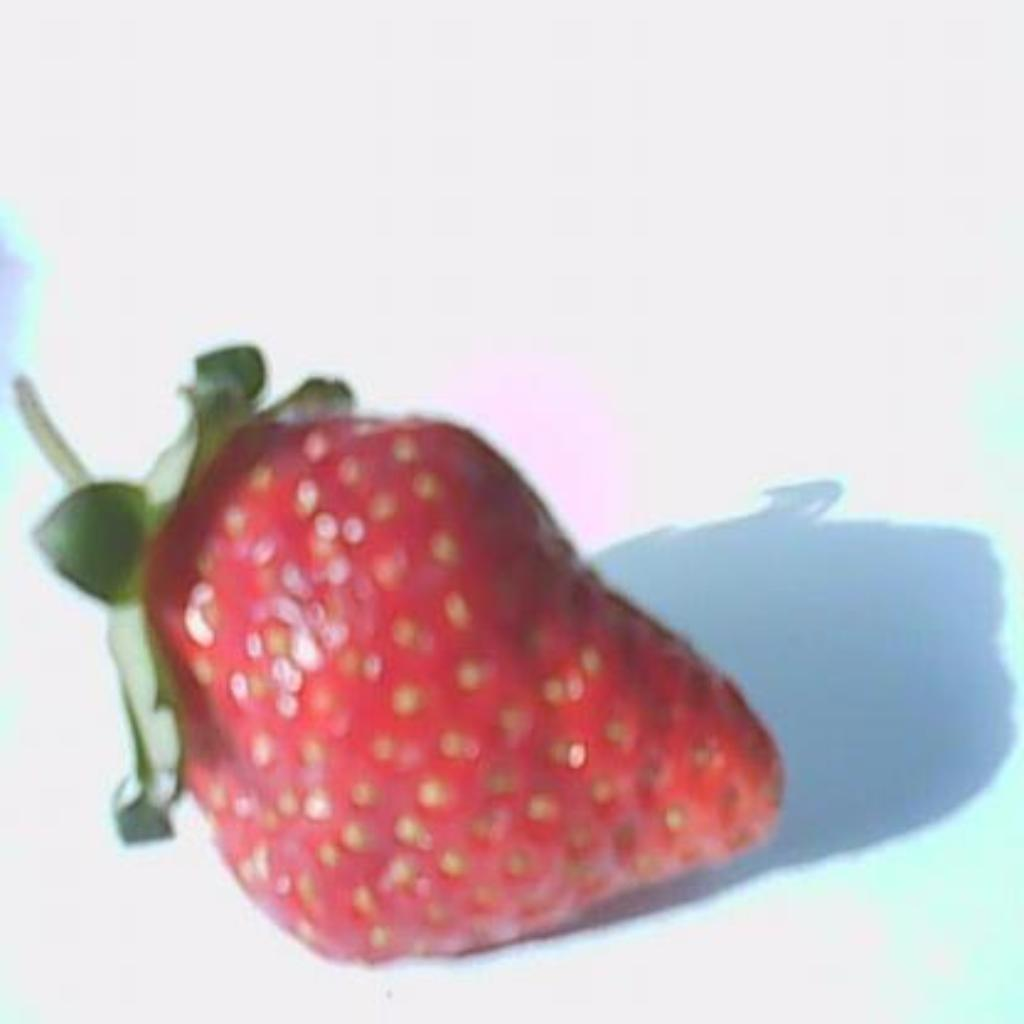strawberry: (14, 346, 782, 961)
